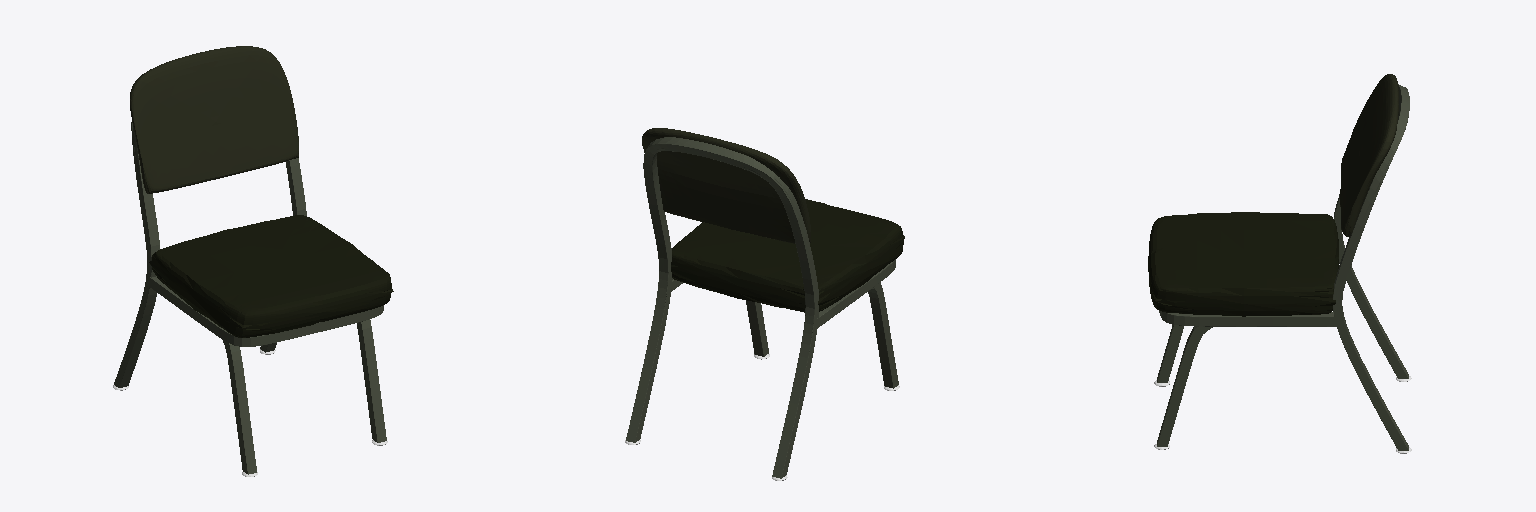
The model's file is BlackChair.obj.
3 renders of one model, left to right at view 1: azimuth 30°, elevation 25°; view 2: azimuth 150°, elevation 25°; view 3: azimuth 270°, elevation 25°, orthographic.
Parts seen in each view (by area): view 1: Cushion, Backing, Back_Legs, Chair_Bottom, Front_Leg_Left, Front_Leg_Left_1; view 2: Cushion, Back_Legs, Backing, Front_Leg_Left, Chair_Bottom, Front_Leg_Left_1; view 3: Cushion, Back_Legs, Backing, Chair_Bottom, Front_Leg_Left_1, Front_Leg_Left.
Boxes of the visible parts, x1,y1,x2,y2 form: Cushion: [149, 215, 393, 337]; Backing: [130, 46, 298, 193]; Back_Legs: [114, 122, 306, 387]; Chair_Bottom: [148, 276, 383, 346]; Front_Leg_Left: [222, 339, 256, 474]; Front_Leg_Left_1: [357, 319, 386, 442]; Cushion: [671, 199, 904, 312]; Back_Legs: [626, 137, 818, 478]; Backing: [642, 128, 810, 243]; Front_Leg_Left: [868, 282, 898, 388]; Chair_Bottom: [671, 259, 895, 328]; Front_Leg_Left_1: [746, 300, 768, 356]; Cushion: [1148, 212, 1338, 316]; Back_Legs: [1333, 84, 1409, 450]; Backing: [1340, 74, 1398, 236]; Chair_Bottom: [1159, 311, 1337, 326]; Front_Leg_Left_1: [1157, 326, 1212, 446]; Front_Leg_Left: [1157, 325, 1183, 382].
Size of the model in its own units: 17.21 by 32.5 by 24.19.